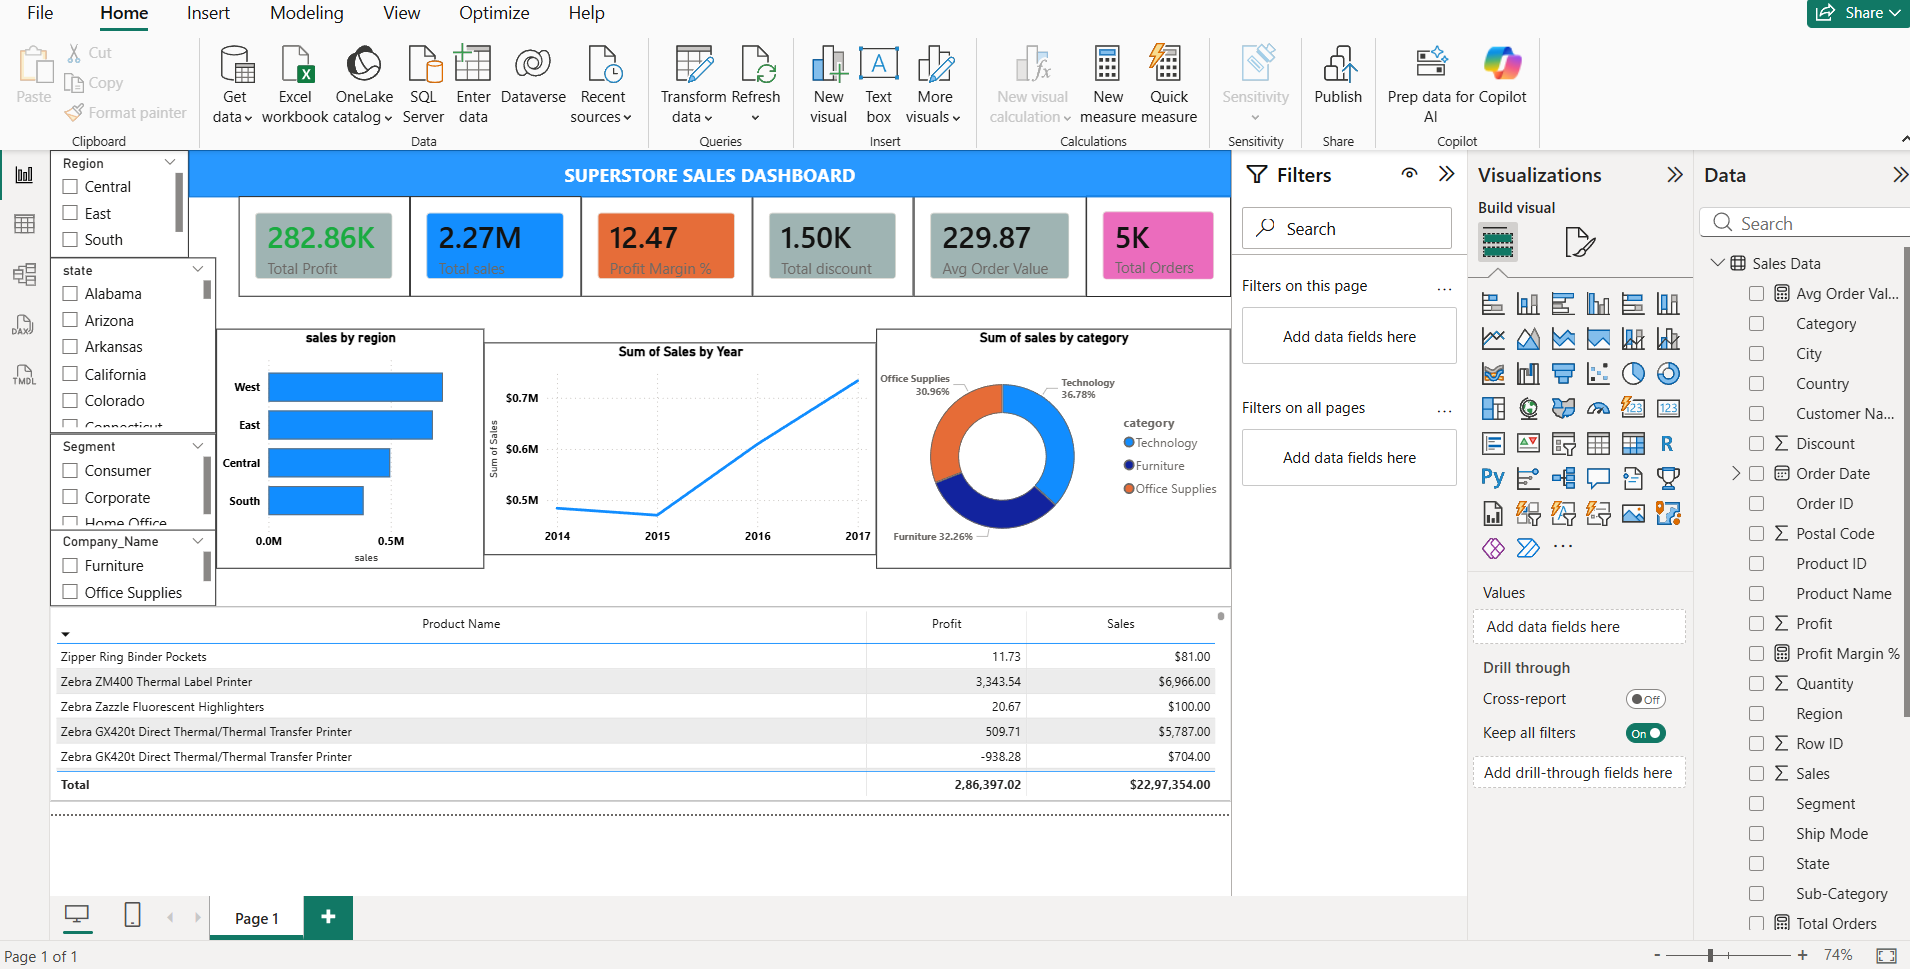

This screenshot's page, from the dashboard's own definition file:
{"tool":"powerbi","page":{"name":"Page 1","canvas":[1280,720],"ordinal":0},"visuals":[{"type":"cardVisual","fields":{"Data":["Sales Data.Profit Margin %"]},"box":[575.7,50,185.7,108.6],"z":0},{"type":"cardVisual","fields":{"Data":["Sales Data.Avg Order Value"]},"box":[935.7,50,187.1,108.6],"z":1000},{"type":"cardVisual","fields":{"Data":["Sales Data.Total Orders"]},"box":[1122.9,48.6,157.1,110],"z":2000},{"type":"clusteredBarChart","fields":{"Category":["superstore_db sales_dashboard.region"],"Y":["Sum(superstore_db sales_dashboard.sales)"]},"box":[180,194.3,290,260],"z":3000},{"type":"donutChart","fields":{"Category":["superstore_db sales_dashboard.category"],"Y":["Sum(superstore_db sales_dashboard.sales)"]},"box":[895.7,194.3,384.3,260],"z":4000},{"type":"lineChart","fields":{"Category":["Sales Data.Order Date.Variation.Date Hierarchy.Year"],"Y":["Sum(Sales Data.Sales)"]},"box":[470,208.6,425.7,230],"z":5000},{"type":"slicer","fields":{"Values":["superstore_db sales_dashboard.region"]},"box":[0,0,150,117.1],"z":6000},{"type":"slicer","fields":{"Values":["superstore_db sales_dashboard.category"]},"box":[0,410,180,84.3],"z":7000},{"type":"cardVisual","fields":{"Data":["Sum(superstore_db sales_dashboard.discount)"]},"box":[761.4,50,174.3,108.6],"z":8000},{"type":"slicer","fields":{"Values":["superstore_db sales_dashboard.state"]},"box":[0,117.1,180,190],"z":9000},{"type":"tableEx","fields":{"Values":["Sales Data.Product Name","Sum(Sales Data.Profit)","Sum(Sales Data.Sales)"]},"box":[0,494.3,1280,211.4],"z":10000},{"type":"slicer","fields":{"Values":["Sales Data.Segment"]},"box":[0,307.5,180,105],"z":11000},{"type":"shape","box":[150,0,1130,51.4],"z":12000},{"type":"cardVisual","fields":{"Data":["Sum(superstore_db sales_dashboard.sales)"]},"box":[390,50,185.7,108.6],"z":13000},{"type":"cardVisual","fields":{"Data":["Sum(superstore_db sales_dashboard.profit)"]},"box":[204.3,50,185.7,108.6],"z":14000}]}

Visuals, with their boxes on the page's 1280x720 design canvas (x1, y1, x2, y2). These are canvas units, not pixel positions in the 1910x969 screenshot, which may show the page scaled, cropped or inside an application window:
cardVisual - Sales Data.Profit Margin %: {"x1": 576, "y1": 50, "x2": 761, "y2": 159}
cardVisual - Sales Data.Avg Order Value: {"x1": 936, "y1": 50, "x2": 1123, "y2": 159}
cardVisual - Sales Data.Total Orders: {"x1": 1123, "y1": 49, "x2": 1280, "y2": 159}
clusteredBarChart - superstore_db sales_dashboard.region x Sum(superstore_db sales_dashboard.sales): {"x1": 180, "y1": 194, "x2": 470, "y2": 454}
donutChart - superstore_db sales_dashboard.category x Sum(superstore_db sales_dashboard.sales): {"x1": 896, "y1": 194, "x2": 1280, "y2": 454}
lineChart - Sales Data.Order Date.Variation.Date Hierarchy.Year x Sum(Sales Data.Sales): {"x1": 470, "y1": 209, "x2": 896, "y2": 439}
slicer - superstore_db sales_dashboard.region: {"x1": 0, "y1": 0, "x2": 150, "y2": 117}
slicer - superstore_db sales_dashboard.category: {"x1": 0, "y1": 410, "x2": 180, "y2": 494}
cardVisual - Sum(superstore_db sales_dashboard.discount): {"x1": 761, "y1": 50, "x2": 936, "y2": 159}
slicer - superstore_db sales_dashboard.state: {"x1": 0, "y1": 117, "x2": 180, "y2": 307}
tableEx - Sales Data.Product Name x Sum(Sales Data.Profit): {"x1": 0, "y1": 494, "x2": 1280, "y2": 706}
slicer - Sales Data.Segment: {"x1": 0, "y1": 308, "x2": 180, "y2": 412}
shape: {"x1": 150, "y1": 0, "x2": 1280, "y2": 51}
cardVisual - Sum(superstore_db sales_dashboard.sales): {"x1": 390, "y1": 50, "x2": 576, "y2": 159}
cardVisual - Sum(superstore_db sales_dashboard.profit): {"x1": 204, "y1": 50, "x2": 390, "y2": 159}
